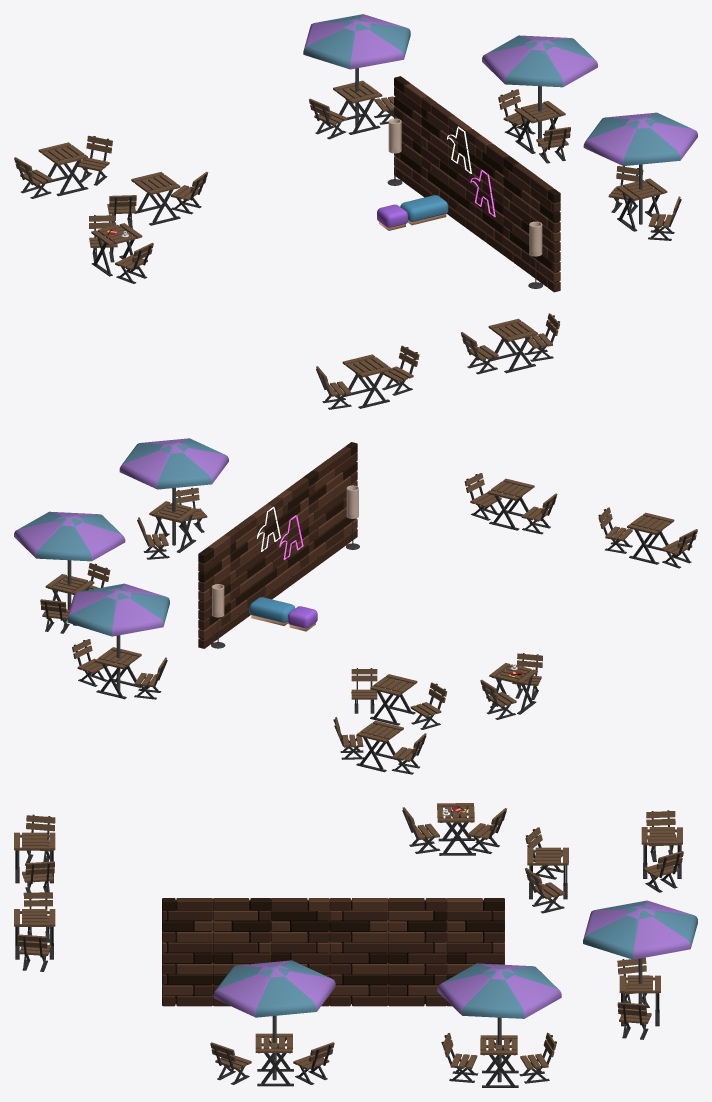
Rendered from d2x2Shape Sampleroom - Deko.glb.
The picture shows the model from 3 angles, top to bottom: view 1: azimuth 30°, elevation 25°; view 2: azimuth 150°, elevation 25°; view 3: azimuth 270°, elevation 25°; orthographic projection. The views are drawn at different scales.
Parts seen in each view (by area): view 1: Deko_2x2 arcade; view 2: Deko_2x2 arcade; view 3: Deko_2x2 arcade.
Part boxes in pixels (<box>): Deko_2x2 arcade: <box>14,14,697,409</box>; Deko_2x2 arcade: <box>14,438,697,774</box>; Deko_2x2 arcade: <box>14,803,697,1087</box>.
Size of the model in its own units: 15.02 by 2.94 by 16.39.
9 materials, 3 textured.
